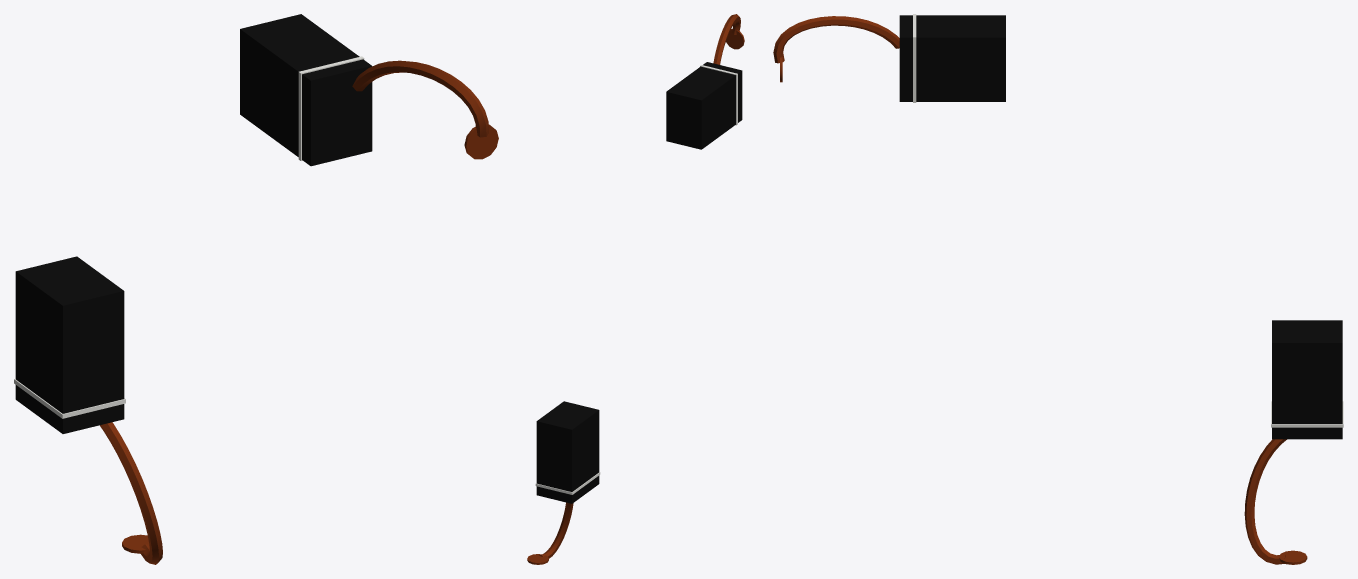
Rendered from carbon_brush_1.obj.
3 renders of one model, left to right at view 1: azimuth 30°, elevation 25°; view 2: azimuth 150°, elevation 25°; view 3: azimuth 270°, elevation 25°, orthographic. The views are drawn at different scales.
Parts seen in each view (by area): view 1: carbon_brush_1; view 2: carbon_brush_1; view 3: carbon_brush_1.
Part boxes in pixels (left/top/right/bottom): carbon_brush_1: left=14, top=14, right=498, bottom=564; carbon_brush_1: left=527, top=14, right=744, bottom=564; carbon_brush_1: left=773, top=14, right=1343, bottom=564.
Size of the model in its own units: 0.0535 by 0.3365 by 0.3217.
